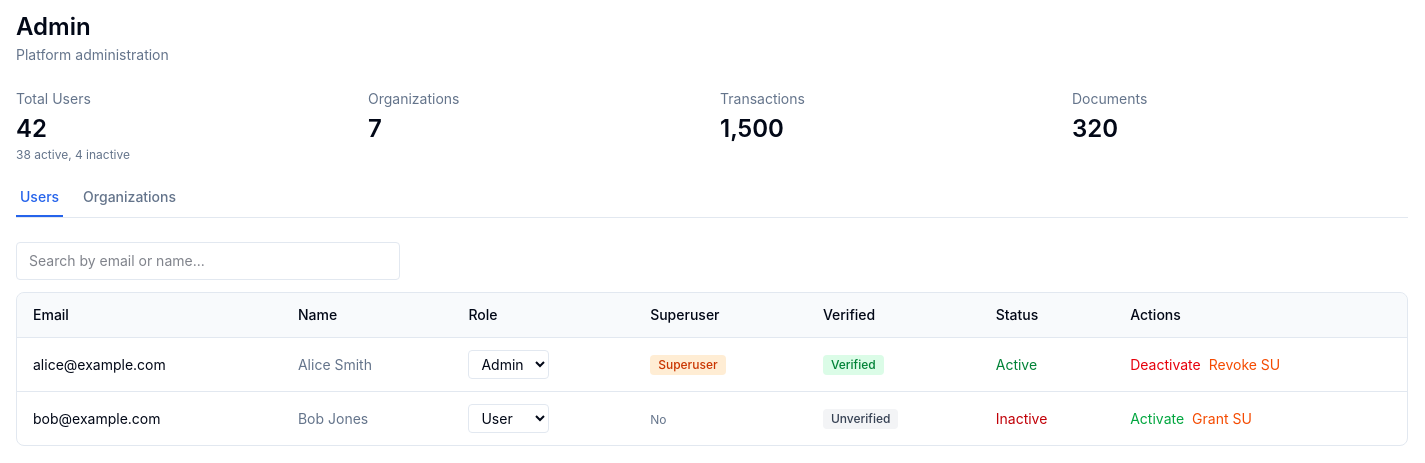
Admin › shows No organizations found when orgs list is empty
Click the tab "Organizations". click: coordinates (130, 202)
box: [79,187,180,217]
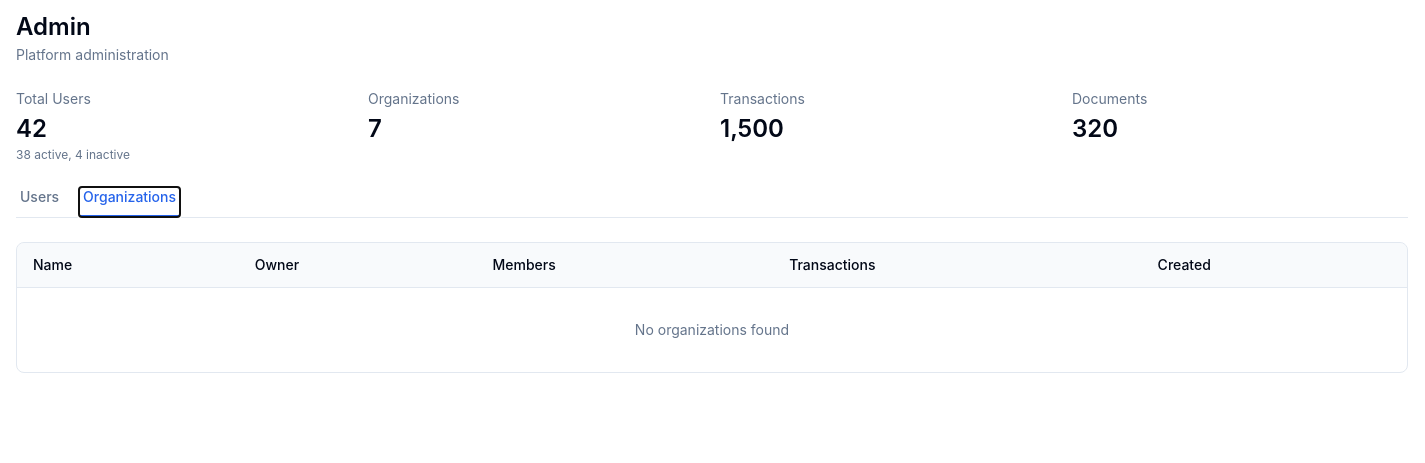
Expected: the text "No organizations found" is shown, [17,288,1407,372]
